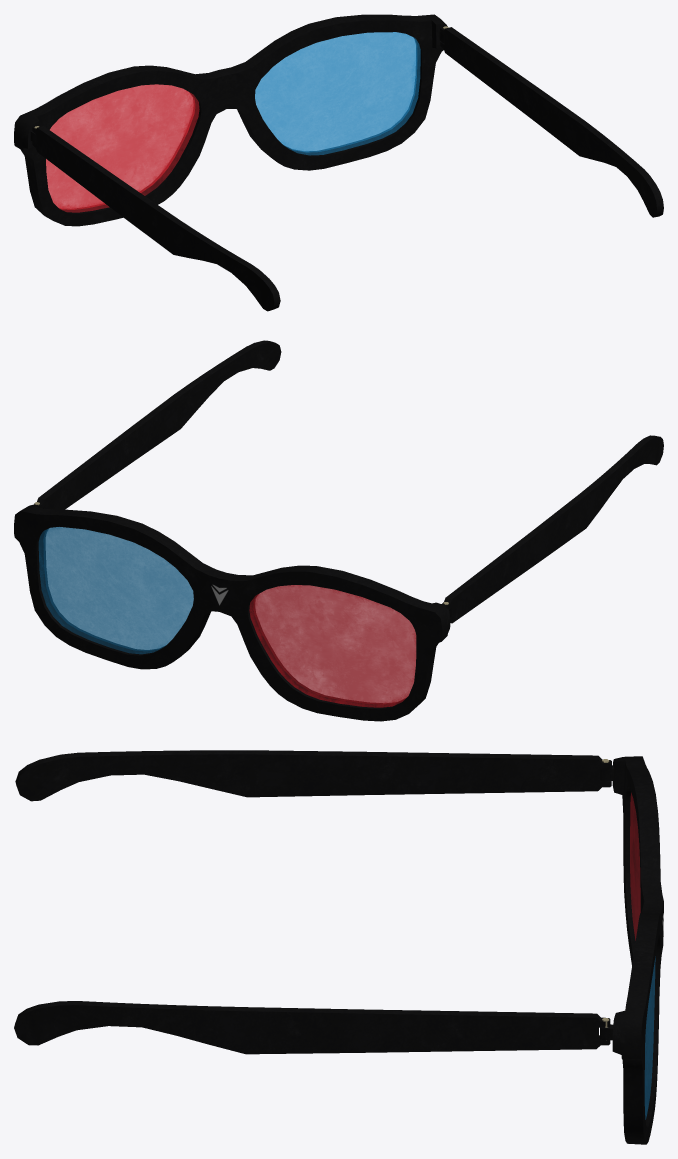
Rendered from threeDGlasses.gltf.
3 views of the same model, one above another, from view 1: azimuth 30°, elevation 25°; view 2: azimuth 150°, elevation 25°; view 3: azimuth 270°, elevation 25° (orthographic). The views are drawn at different scales.
Visible parts, largest first — view 1: threeDGlasses; view 2: threeDGlasses; view 3: threeDGlasses.
Part boxes in pixels (<box>): threeDGlasses: <box>14,14,663,311</box>; threeDGlasses: <box>14,340,663,721</box>; threeDGlasses: <box>14,750,663,1144</box>.
Bounding box in the file's own units: 1.64 × 0.5167 × 1.66.
1 material, 1 textured.
